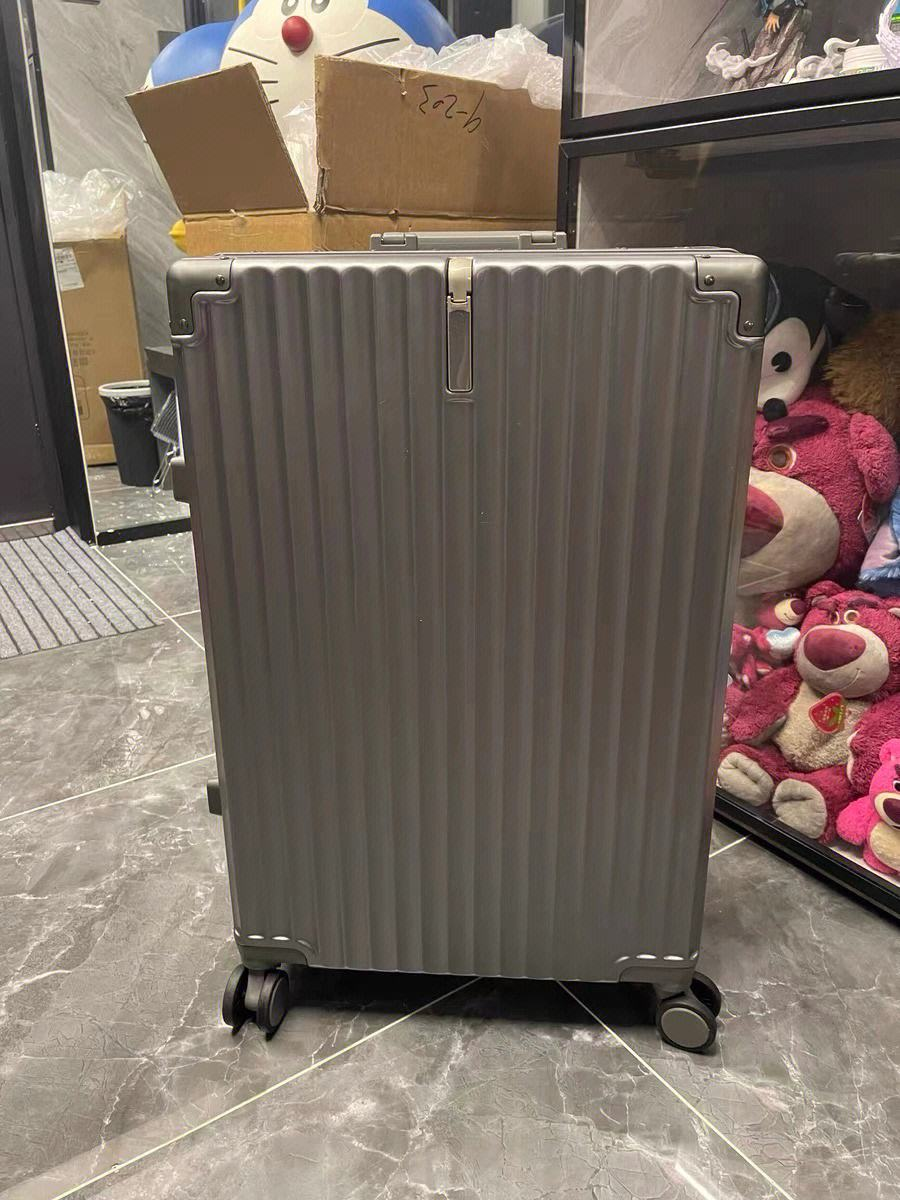box: (162, 252, 771, 986)
handle: (370, 230, 567, 252)
wheel: (655, 971, 721, 1052), (221, 965, 290, 1035)
